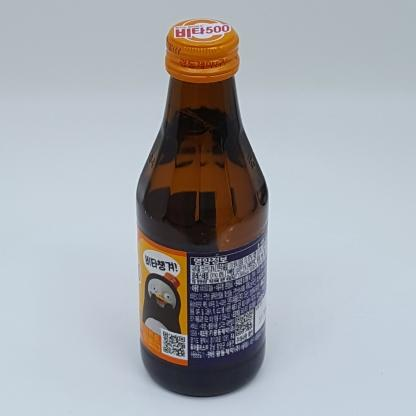-----500---180ML: (136, 17, 268, 397)
